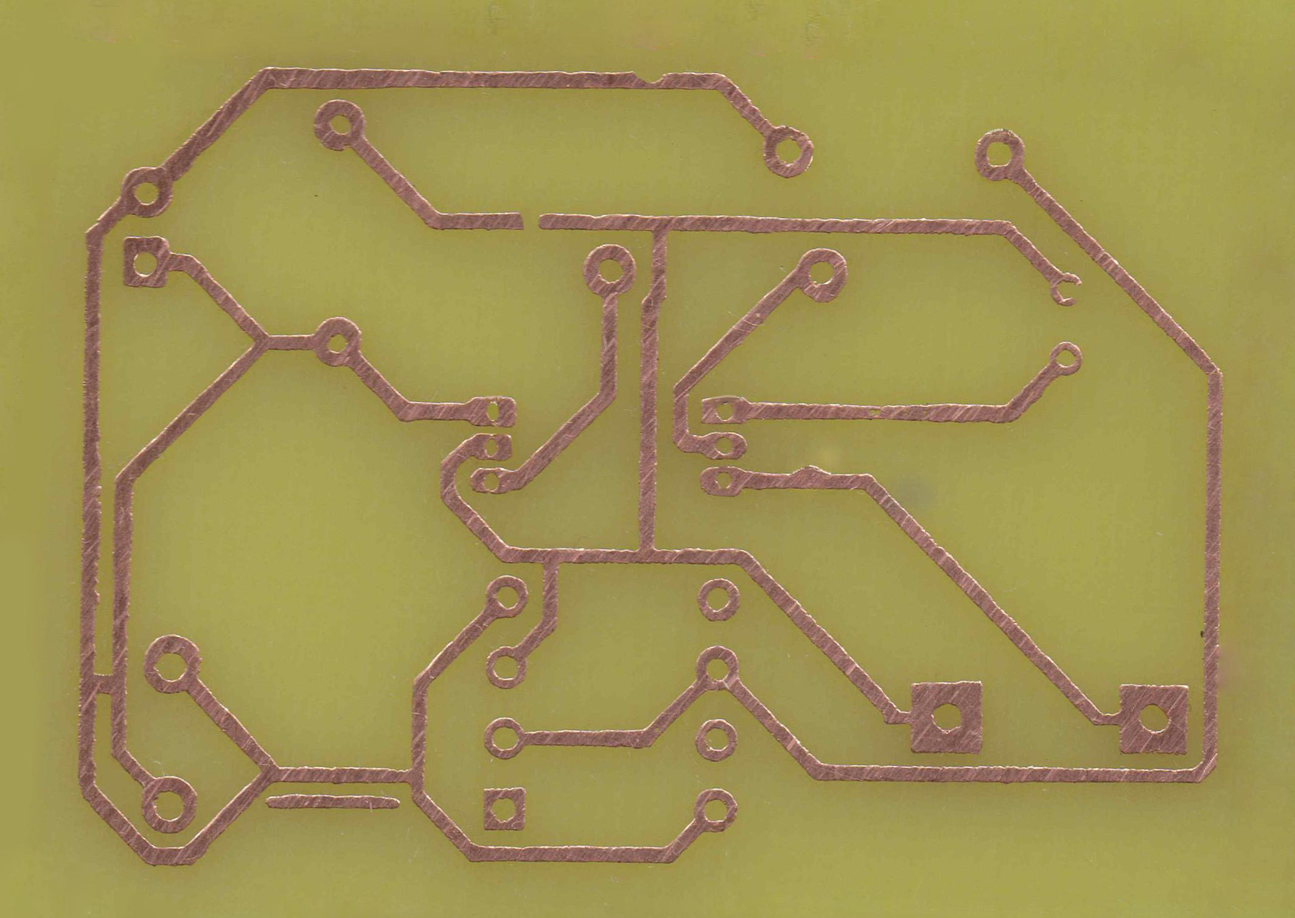missing_hole: (1044, 268, 1086, 308)
mouse_bite: (627, 64, 673, 95)
open_circuit: (510, 206, 550, 238)
short: (71, 664, 130, 701)
spur: (785, 459, 832, 496)
spurious_copper: (262, 791, 404, 815)
